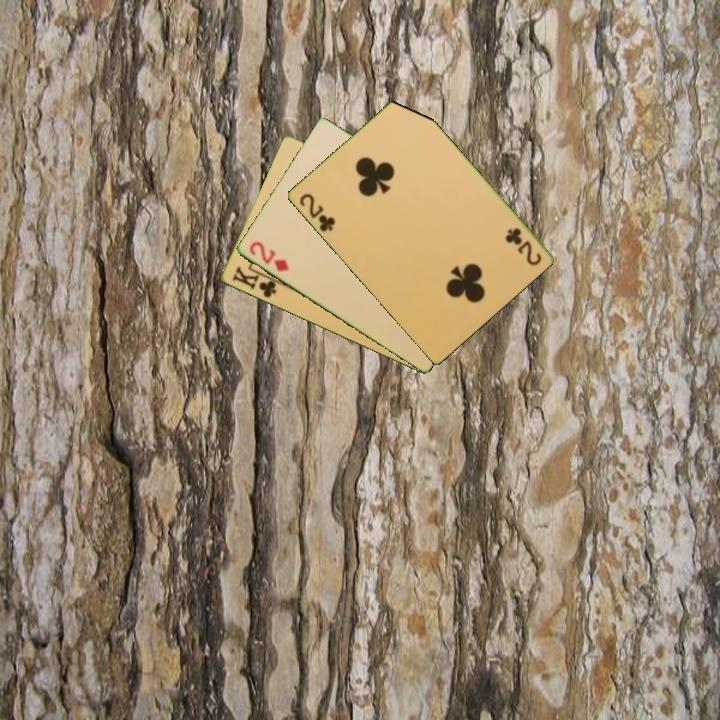2c: (295, 190, 338, 235), (502, 224, 544, 269)
2d: (245, 238, 292, 275)
Kc: (228, 262, 284, 301)
